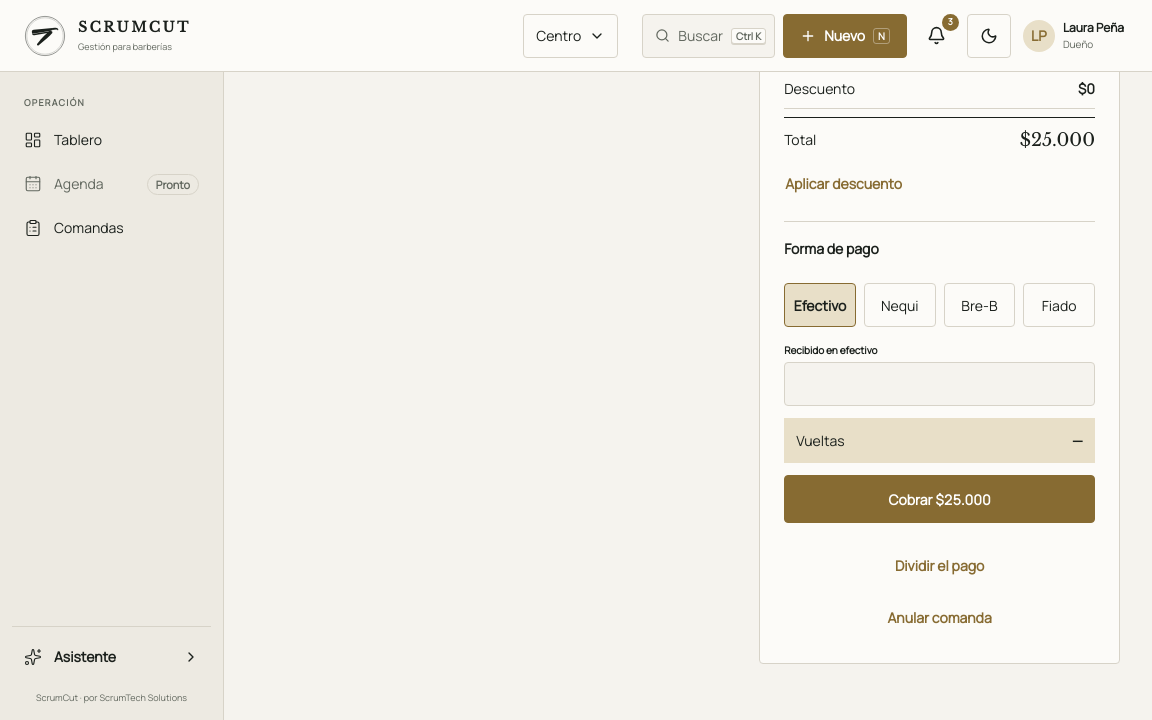
Test: cobro de una comanda › el pago dividido muestra lo que falta por asignar y no deja cobrar si se pasa del total
(page scrolled)
Click the button "Dividir el pago" at coordinates (940, 565), box left=886, top=543, right=993, bottom=587
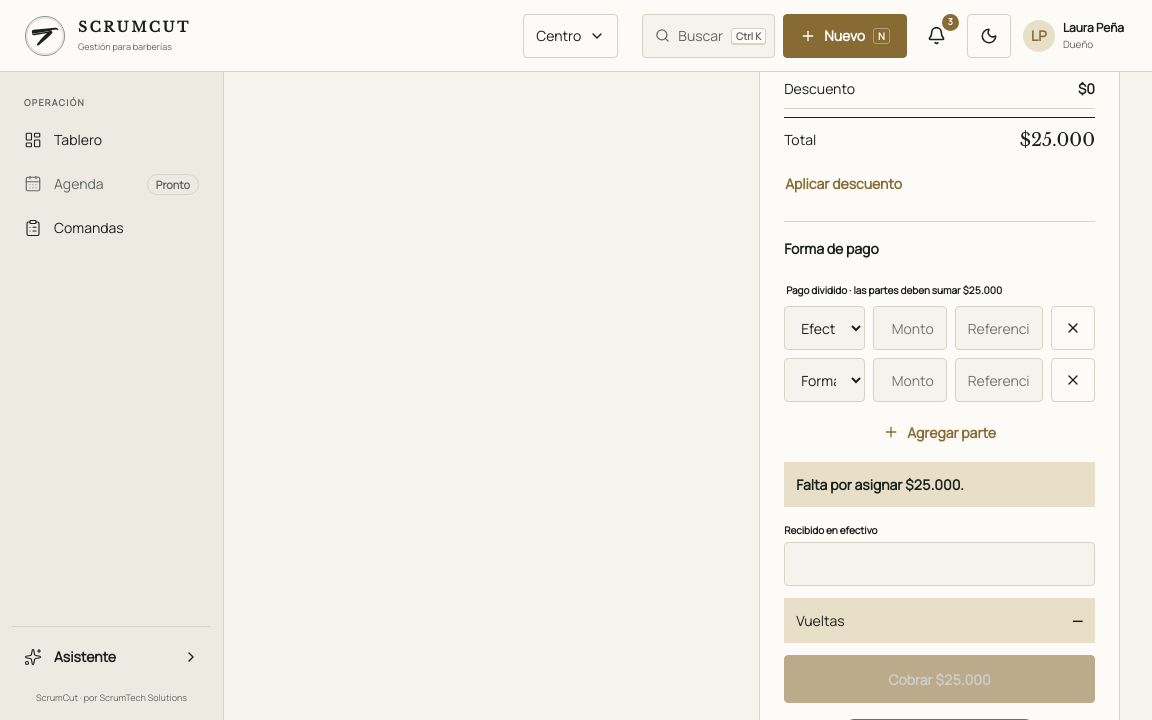
Type "10000" into the field named "Monto de la parte 1" at coordinates (910, 328), box left=873, top=306, right=947, bottom=350
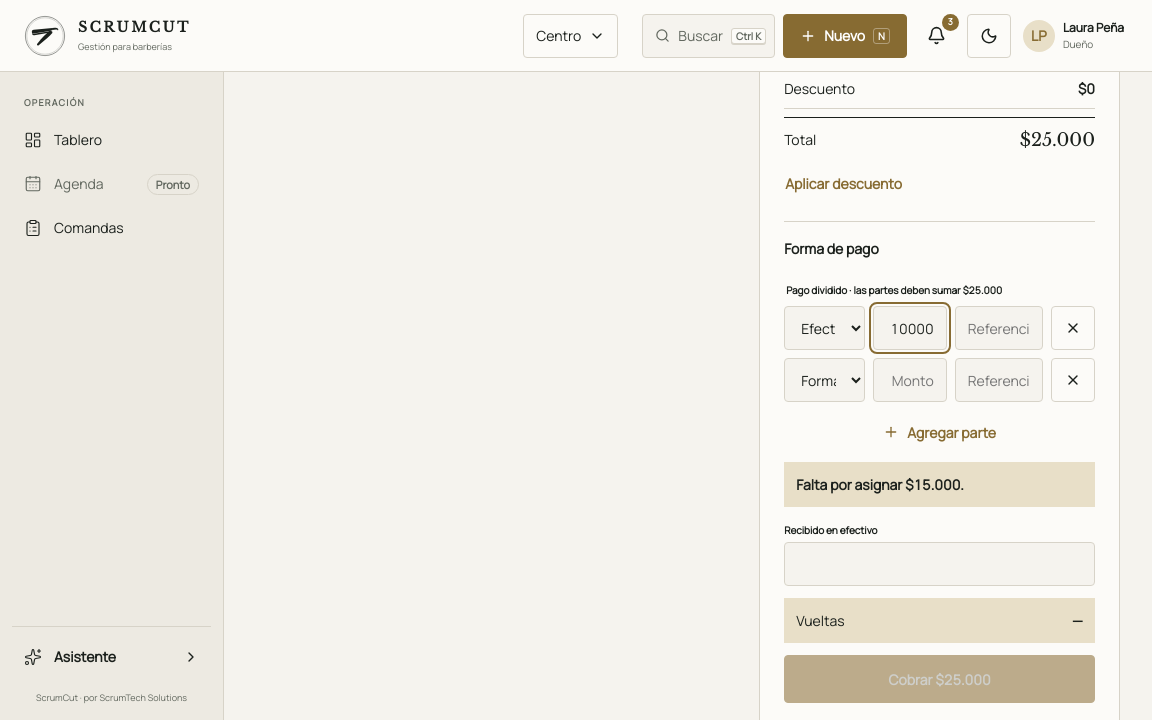
Check: the button "Cobrar $25.000" is disabled, box left=784, top=655, right=1095, bottom=703
Check: the text "Falta por asignar $15.000." is shown, box left=784, top=462, right=1095, bottom=507
Select "Nequi" in the dropdown named "Forma de pago de la parte 2" at coordinates (825, 380), box left=784, top=358, right=865, bottom=402
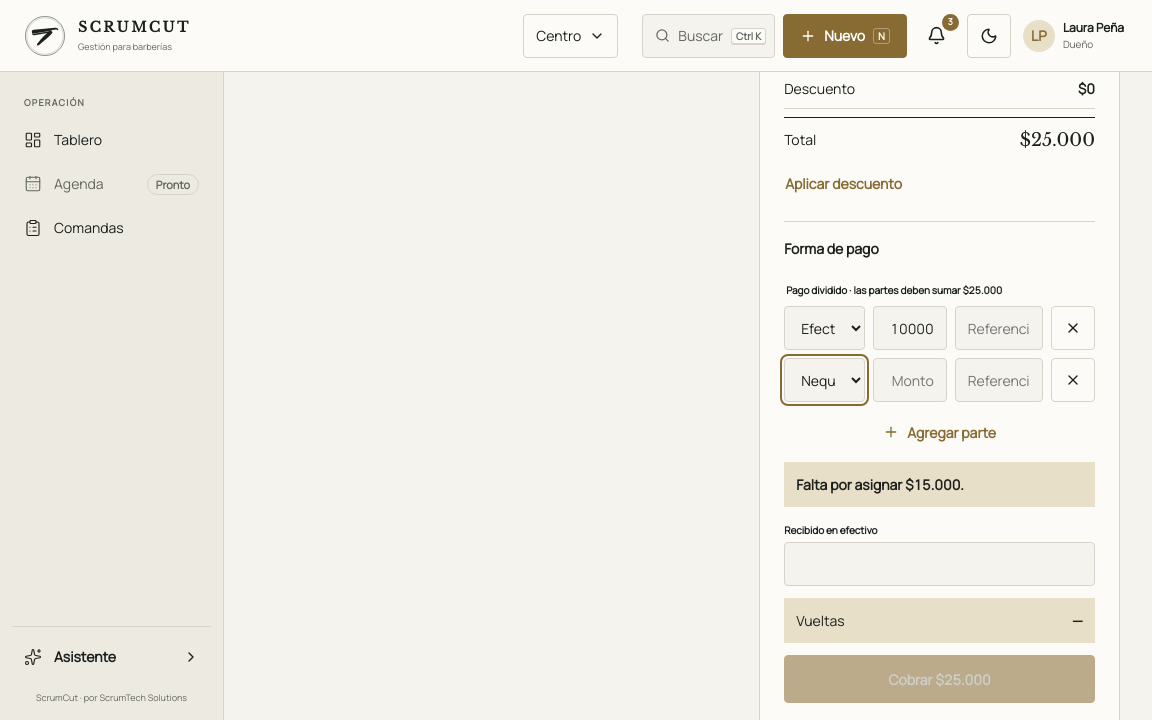
Type "20000" into the field named "Monto de la parte 2" at coordinates (910, 380), box left=873, top=358, right=947, bottom=402
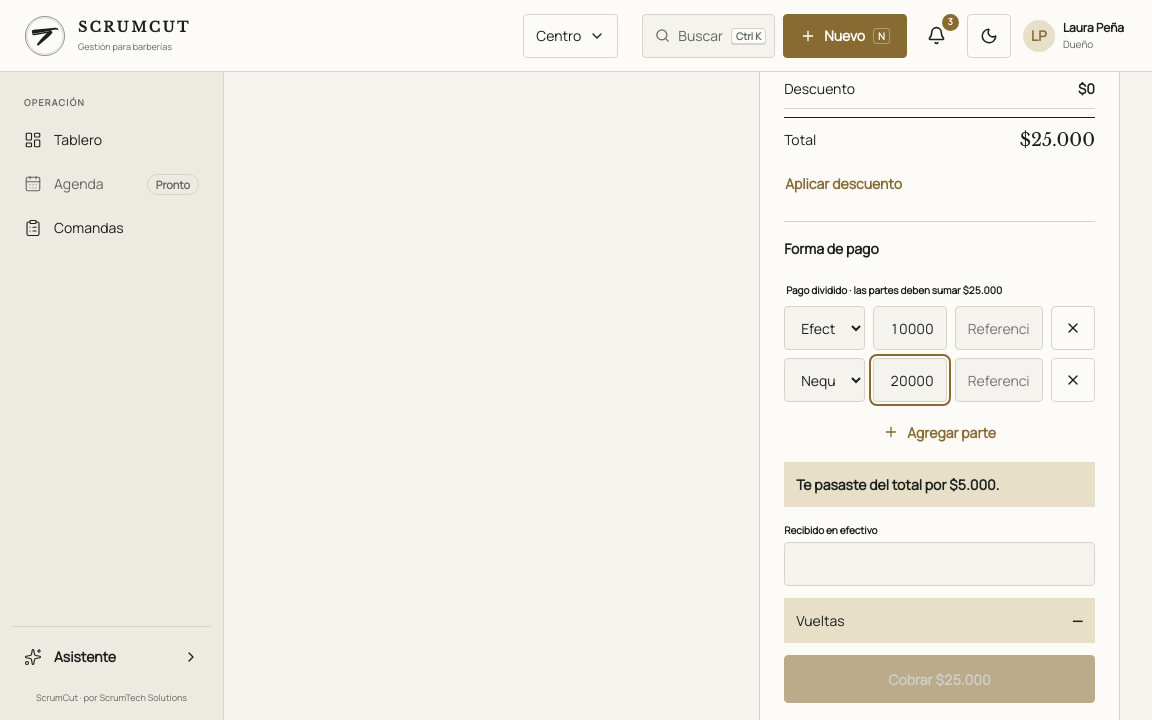
Check: the button "Cobrar $25.000" is disabled, box left=784, top=655, right=1095, bottom=703
Check: the text "Te pasaste del total por $5.000." is shown, box left=784, top=462, right=1095, bottom=507
Replace the text in the field named "Monto de la parte 2" with "15000" at coordinates (910, 380), box left=873, top=358, right=947, bottom=402
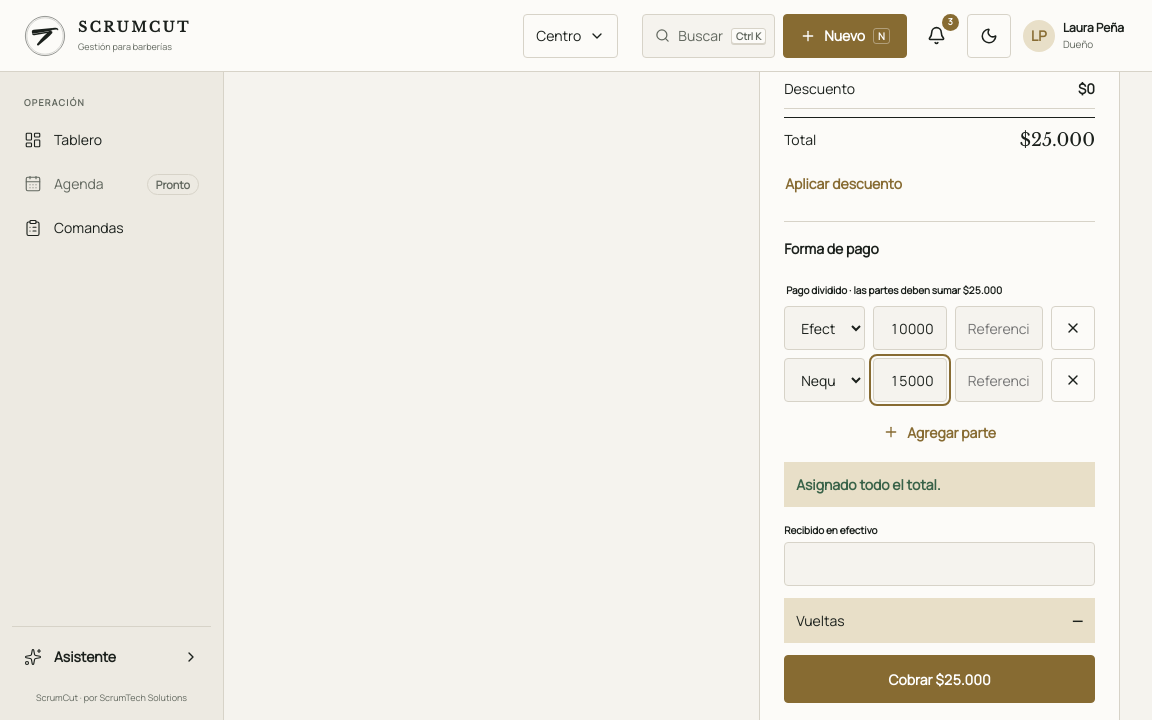
Check: the text "Asignado todo el total." is shown, box left=784, top=462, right=1095, bottom=507
Check: the button "Cobrar $25.000" is enabled, box left=784, top=655, right=1095, bottom=703
